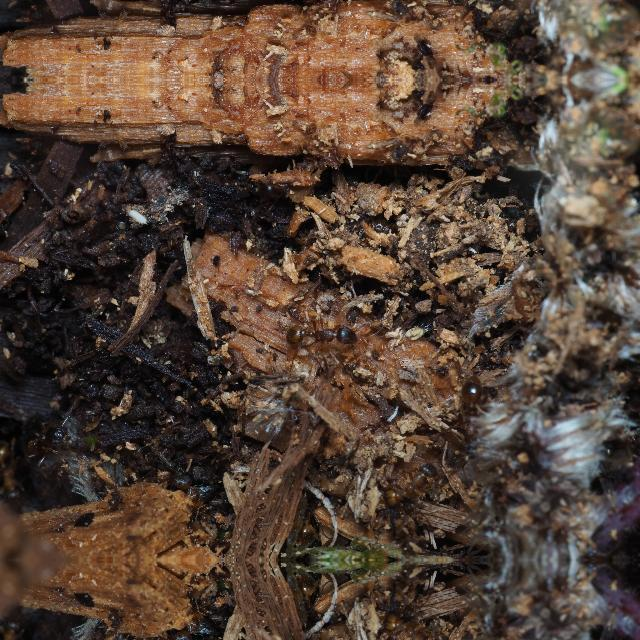Myrmica: (437, 364, 508, 472), (276, 312, 372, 356), (379, 454, 449, 510), (379, 610, 449, 640)
